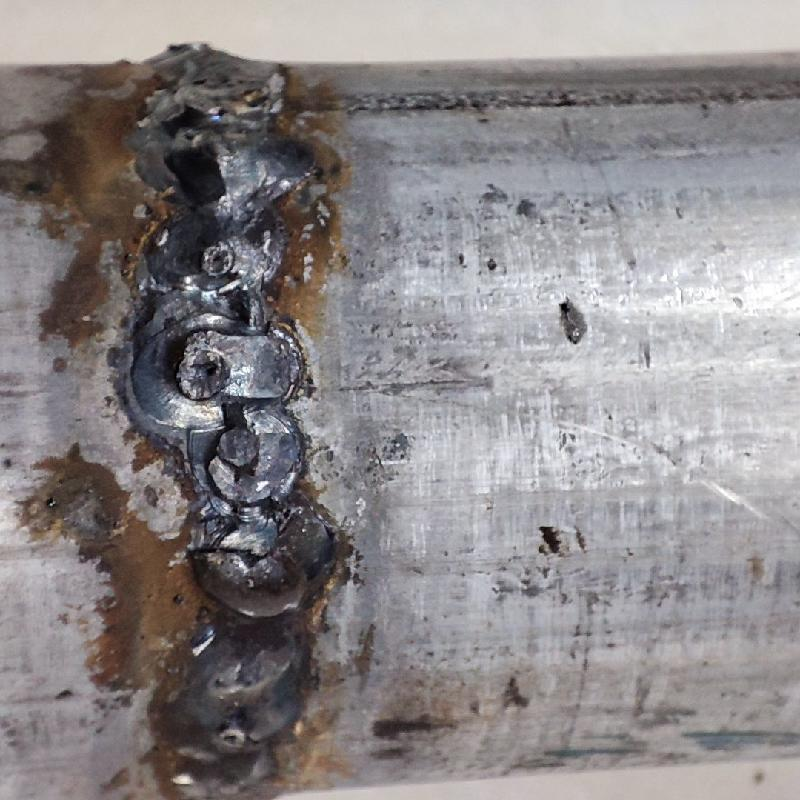Surface_pores: (177, 346, 233, 387), (192, 232, 242, 273), (173, 126, 203, 147)
wrong_size: (130, 30, 338, 792)
